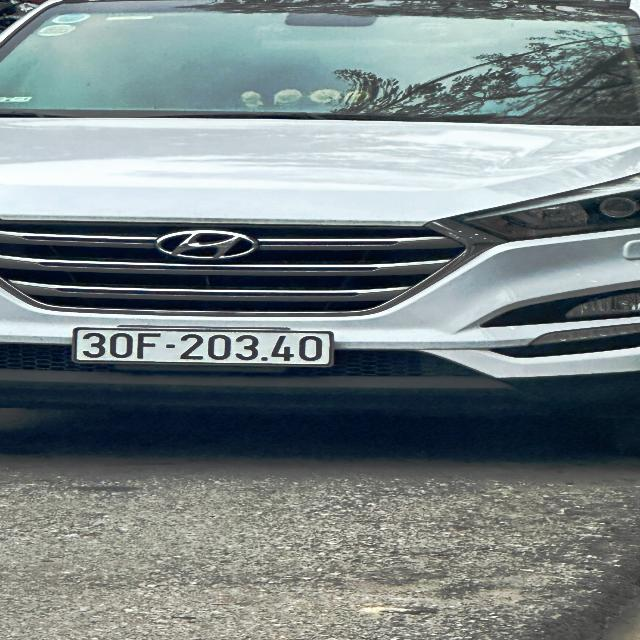license_plate: (72, 328, 335, 368)
